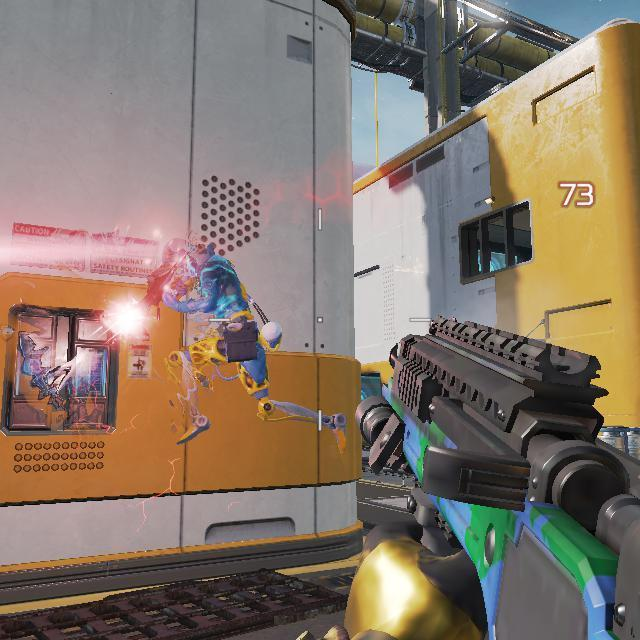avatar: (161, 236, 285, 447)
